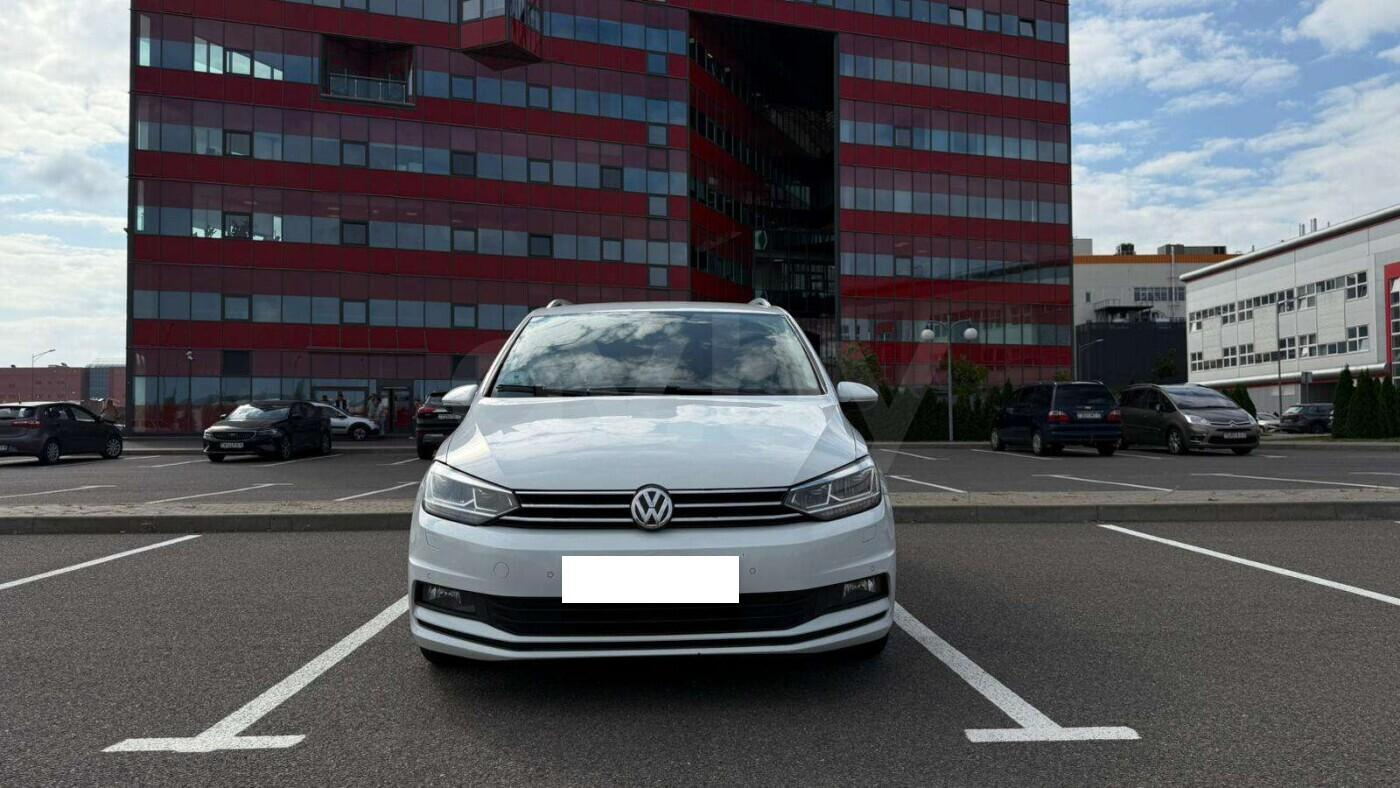Touran_2015: (404, 301, 901, 670)
